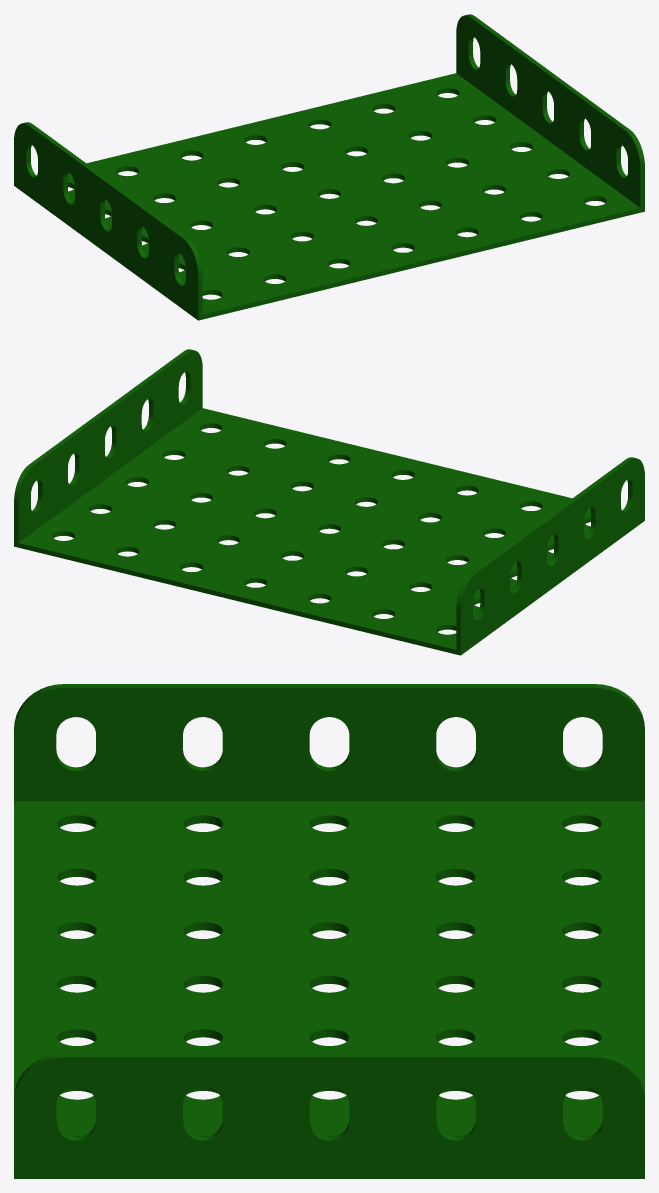
The model's file is ThanhChuU_5x7.glb.
3 renders of one model, top to bottom at view 1: azimuth 30°, elevation 25°; view 2: azimuth 150°, elevation 25°; view 3: azimuth 270°, elevation 25°, orthographic. The views are drawn at different scales.
Visible parts, largest first — view 1: defaultobject; view 2: defaultobject; view 3: defaultobject.
Part boxes in pixels (x1,y1,x2,y2): defaultobject: (14,14,644,320); defaultobject: (14,349,644,655); defaultobject: (14,684,644,1178).
Size of the model in its own units: 221 by 33.62 by 158.
